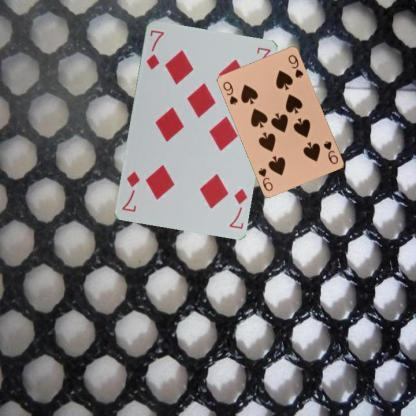7d: (226, 185, 249, 230), (144, 27, 166, 71)
9s: (320, 138, 340, 165), (221, 79, 239, 106)
